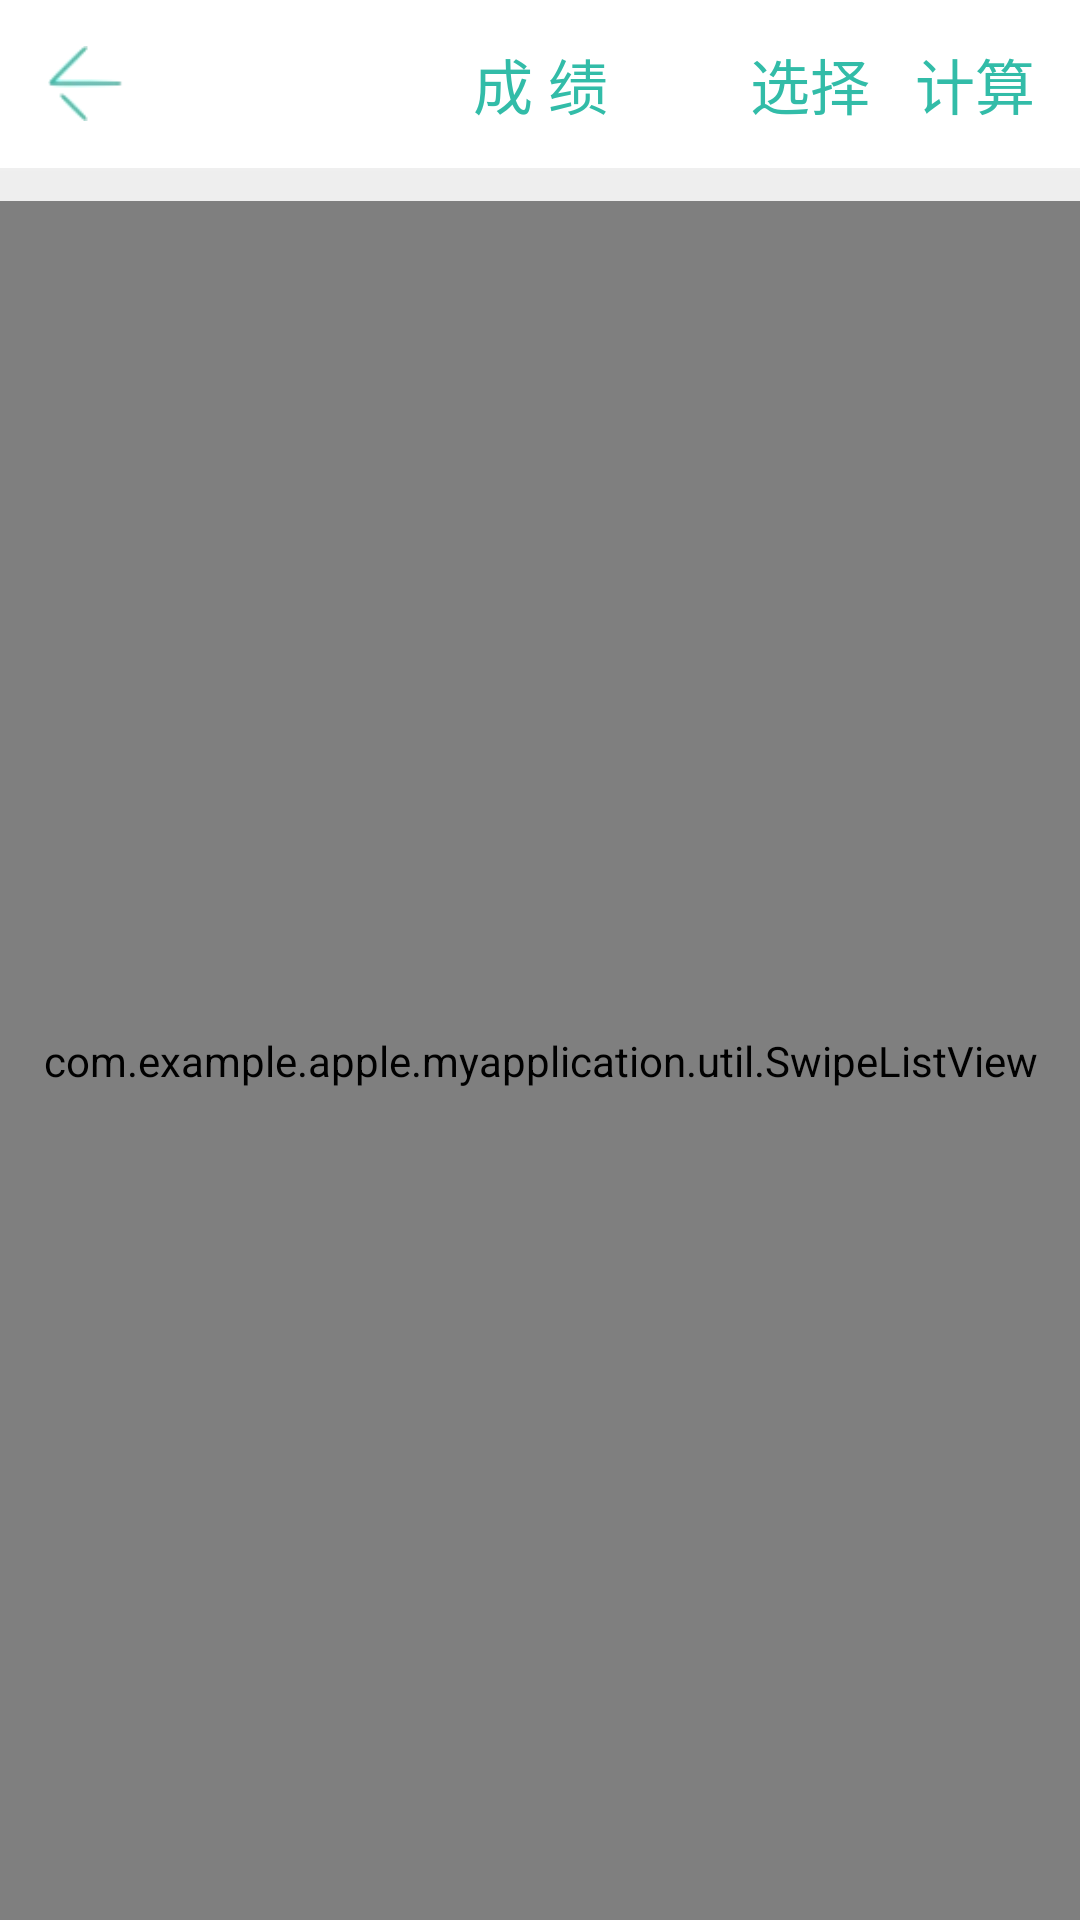

Named icons in this screenshot (1080px x 1920px) and their centers, (x=x, y=y):
back: (x=85, y=83)
